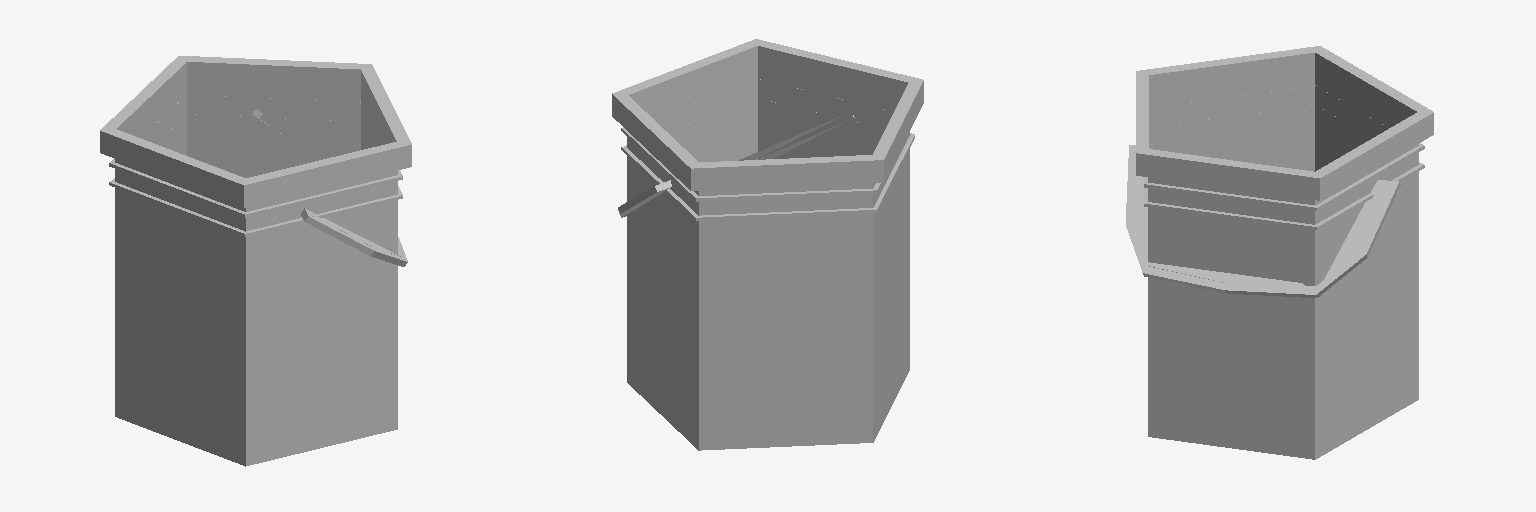
Rendered from tachoadentro.obj.
The picture shows the model from 3 angles: view 1: azimuth 30°, elevation 25°; view 2: azimuth 150°, elevation 25°; view 3: azimuth 270°, elevation 25°; orthographic projection.
Visible parts, largest first — view 1: Circle.001; view 2: Circle.001; view 3: Circle.001.
Part boxes in pixels (x1,y1,x2,y2): Circle.001: (100,56,411,466); Circle.001: (612,39,923,450); Circle.001: (1126,46,1433,459).
Bounding box in the file's own units: 1.62 × 1.64 × 1.59.